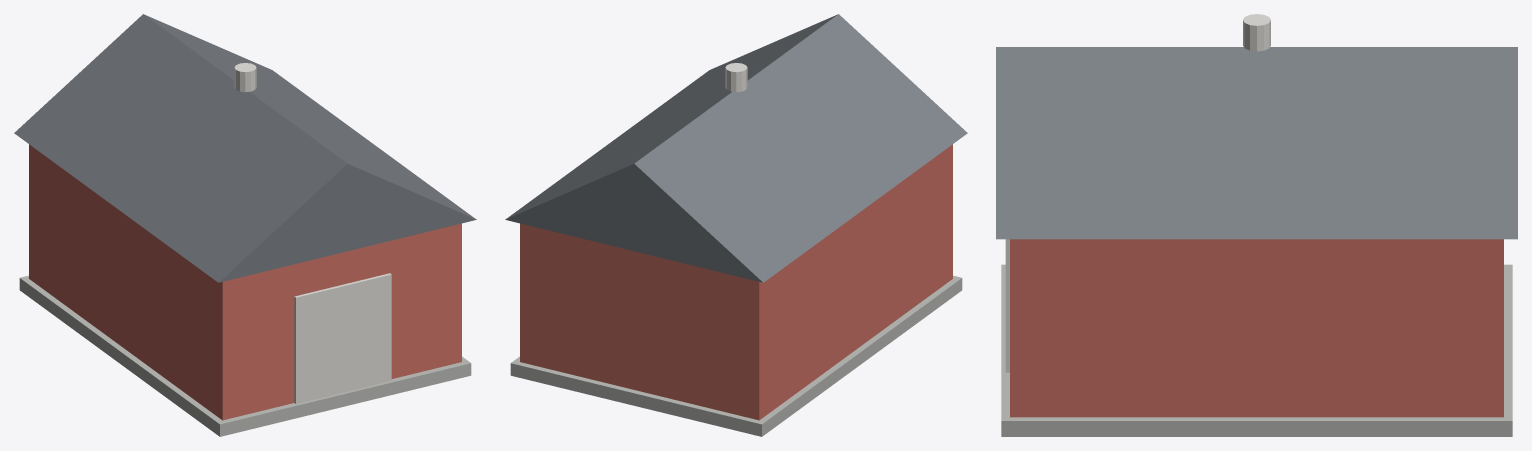
File: barn_classic_gambrel.glb
The picture shows the model from 3 angles, left to right: view 1: azimuth 30°, elevation 25°; view 2: azimuth 150°, elevation 25°; view 3: azimuth 270°, elevation 25°; orthographic projection. The views are drawn at different scales.
Parts seen in each view (by area): view 1: barn_classic_gambrel; view 2: barn_classic_gambrel; view 3: barn_classic_gambrel.
Boxes of the visible parts, x1,y1,x2,y2 form: barn_classic_gambrel: [14, 14, 476, 436]; barn_classic_gambrel: [505, 14, 967, 436]; barn_classic_gambrel: [996, 14, 1517, 436].
Bounding box in the file's own units: 10.8 × 10.6 × 14.8.
